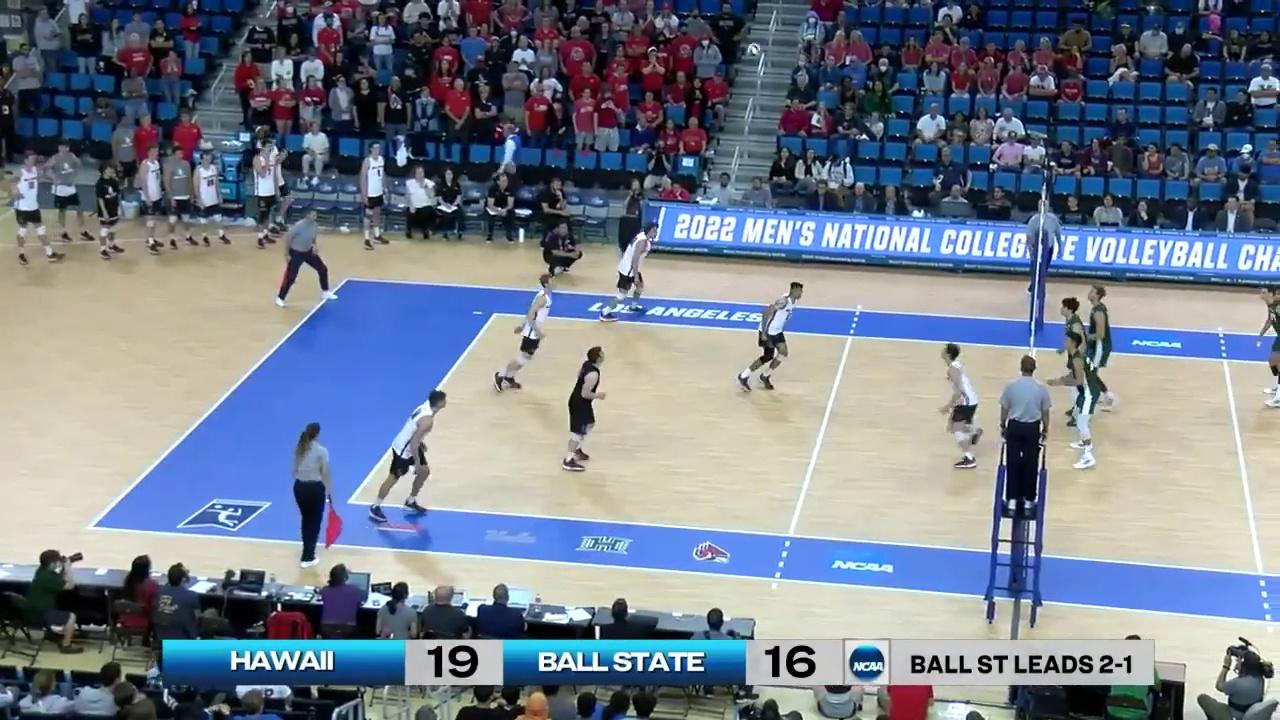player: (368, 388, 447, 523), (495, 274, 559, 396), (737, 283, 803, 396), (1061, 332, 1105, 472), (935, 343, 982, 468), (603, 225, 660, 321), (1080, 282, 1120, 416), (562, 347, 605, 470), (1060, 296, 1092, 429), (1253, 286, 1280, 411)
refree: (996, 355, 1049, 514), (286, 423, 336, 567), (274, 209, 339, 306), (1028, 201, 1059, 297)
